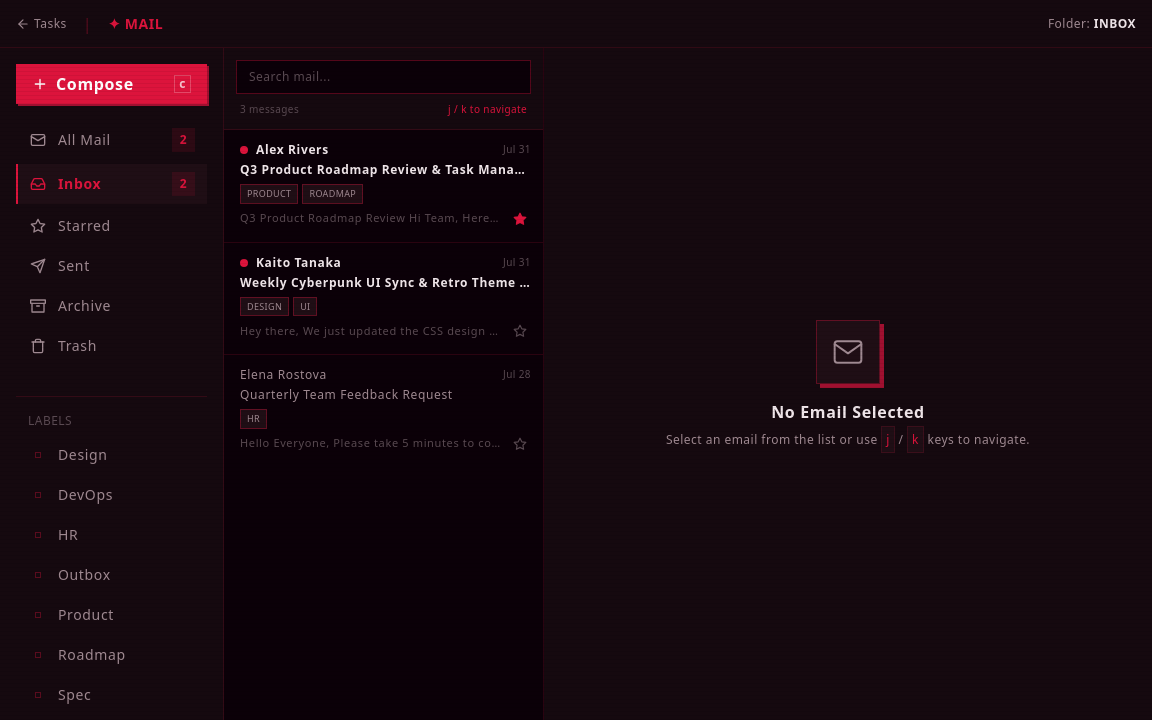
Test: Empirical Adversarial Stress Suite for Mail (Milestone 1) › Check 1: Folder Filtering Across All Folders › toggles across all folders (inbox, starred, sent, archive, trash) and updates email list
This screenshot has width=1152, height=720.
Click the button "Inbox 2" at (112, 184), box [16,164,207,204]
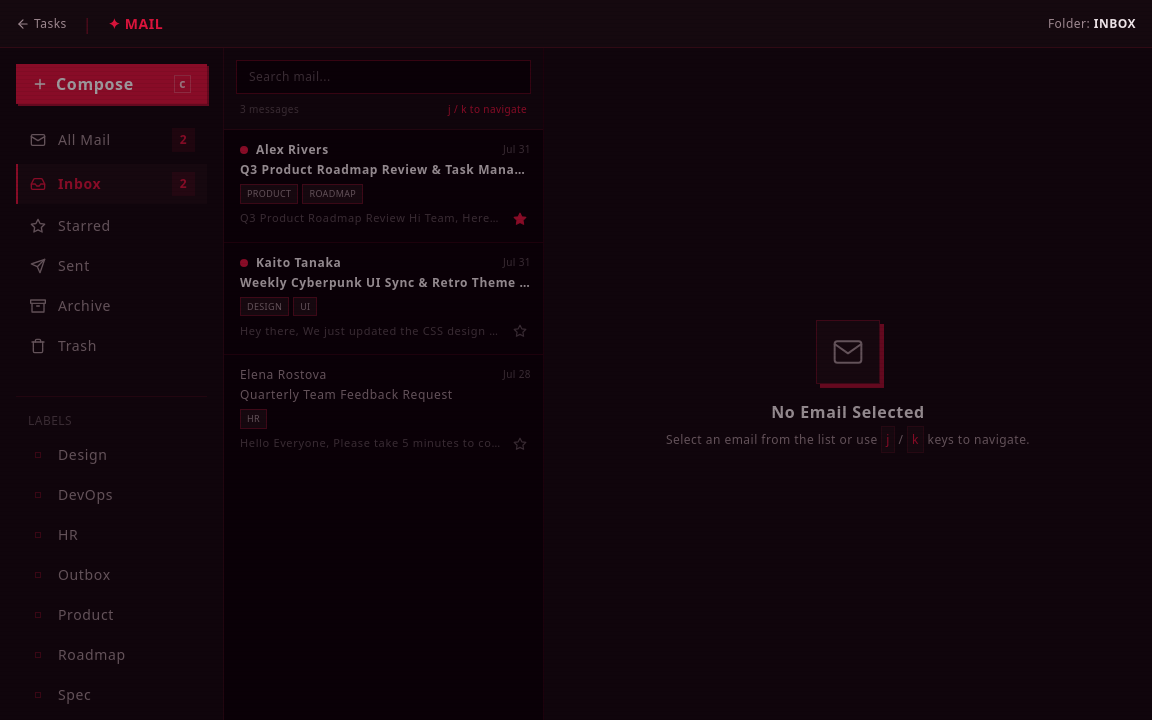
expect the text "Q3 Product Roadmap Review & Task Management" is shown: met, box [240,162,531,178]
Click the button "Starred" at (112, 226), box [16,208,207,244]
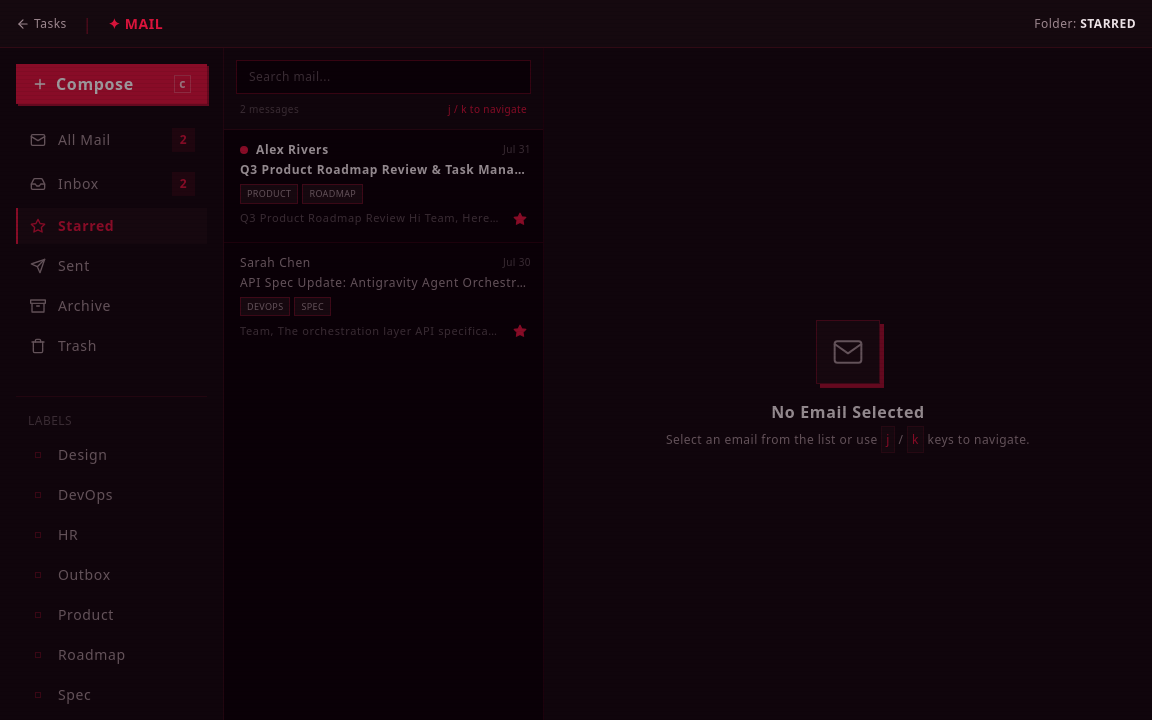
expect the text "Q3 Product Roadmap Review & Task Management" is shown: met, box [240,162,531,178]
Click the button "Sent" at (112, 266), box [16,248,207,284]
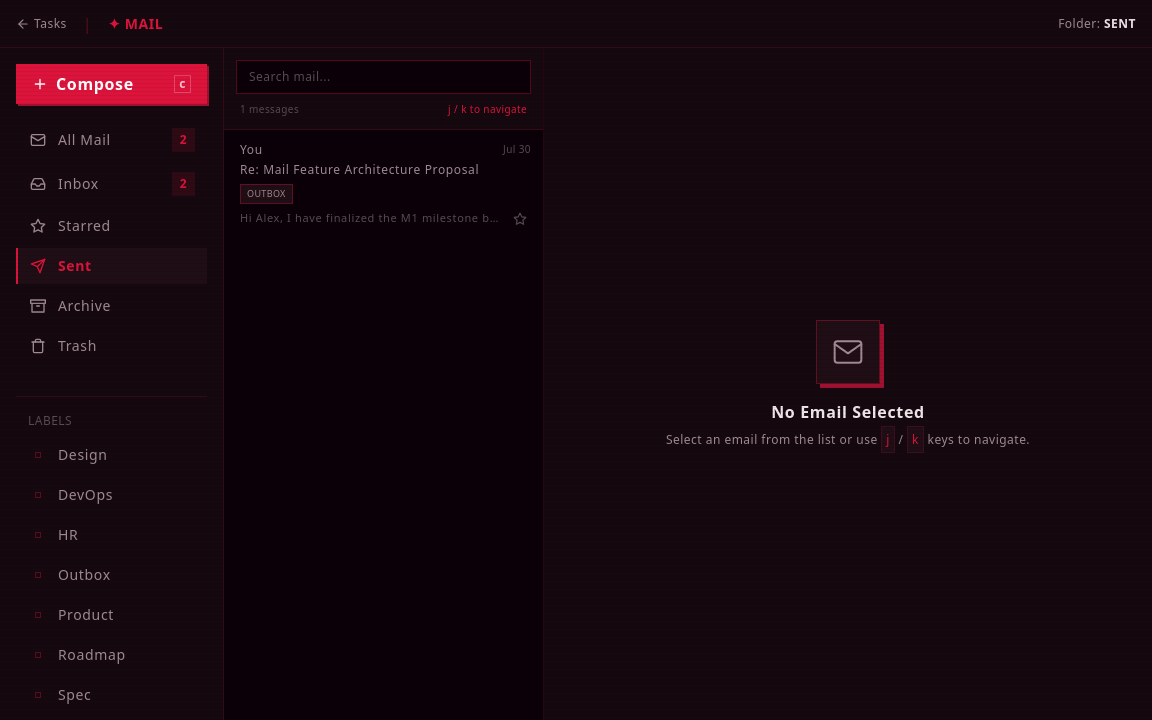
expect the text "Re: Mail Feature Architecture Proposal" is shown: met, box [240,161,479,178]
Click the button "Archive" at (112, 306), box [16,288,207,324]
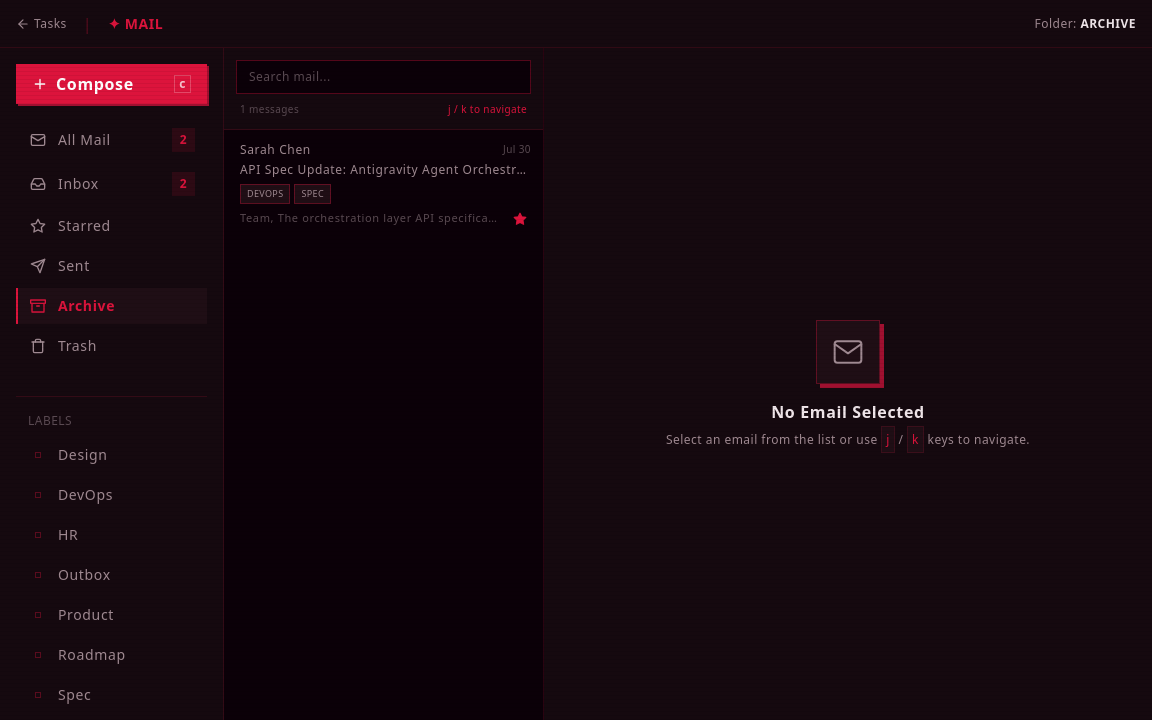
expect the text "API Spec Update: Antigravity Agent Orchestration" is shown: met, box [240,162,531,178]
Click the button "Trash" at (112, 346), box [16,328,207,364]
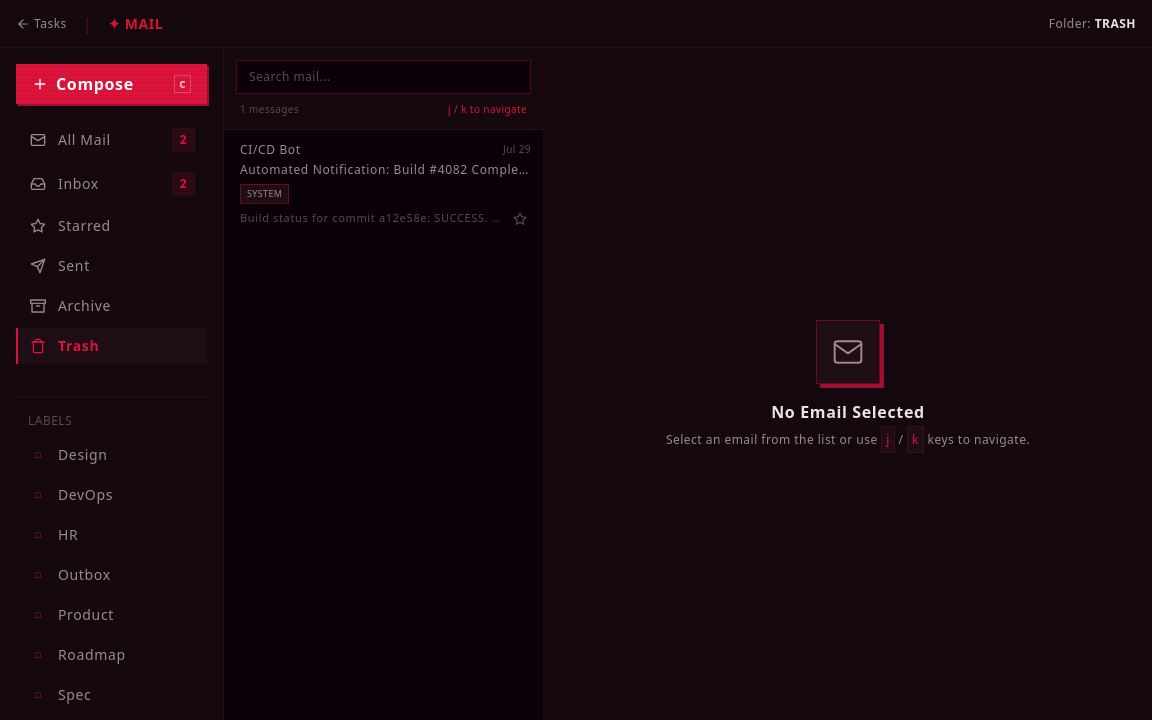
expect the text "Automated Notification: Build #4082 Completed" is shown: met, box [240,162,531,178]
